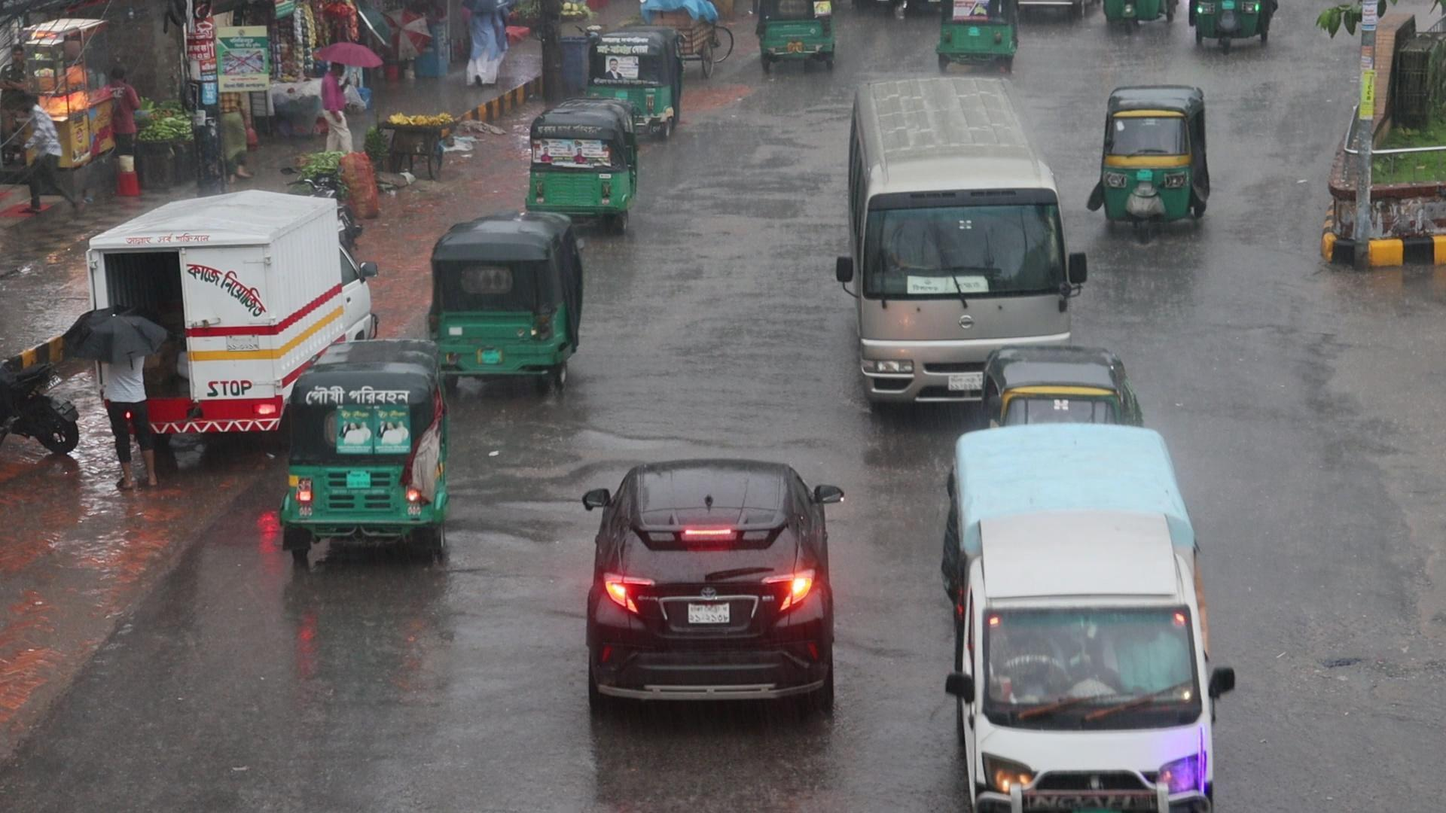Bus: (848, 72, 1079, 342)
Car: (576, 455, 845, 714)
Truck: (949, 419, 1218, 813)
